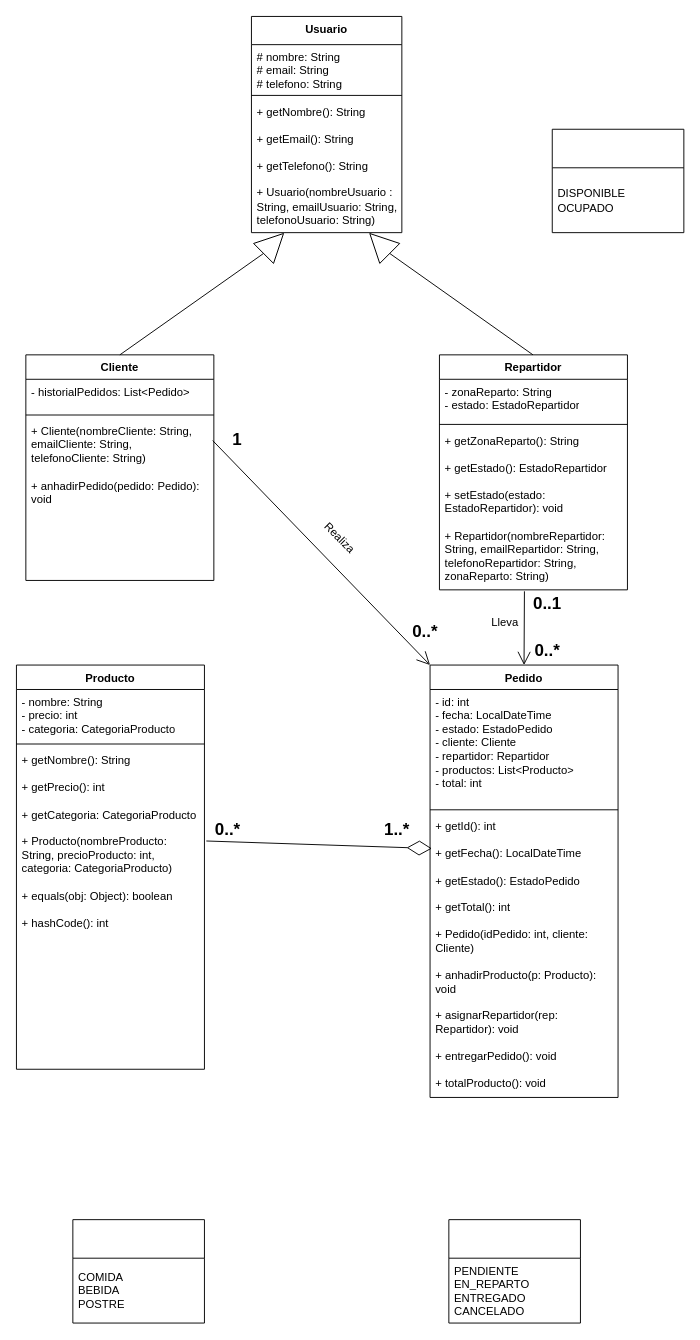
Some shapes in this 700 by 1340 pixel diagram are drawn without their labels. The shapes that lost their labels are listed below. From the top down, each one's box as (x1, y1, x2, y2) in pixels, then its label:
(551, 128, 684, 233): <<enumeration>> EstadoRepartidor
(72, 1219, 204, 1323): <<enumeration>> CategoriaProducto
(448, 1219, 580, 1323): <<enumeration>> EstadoPedido
